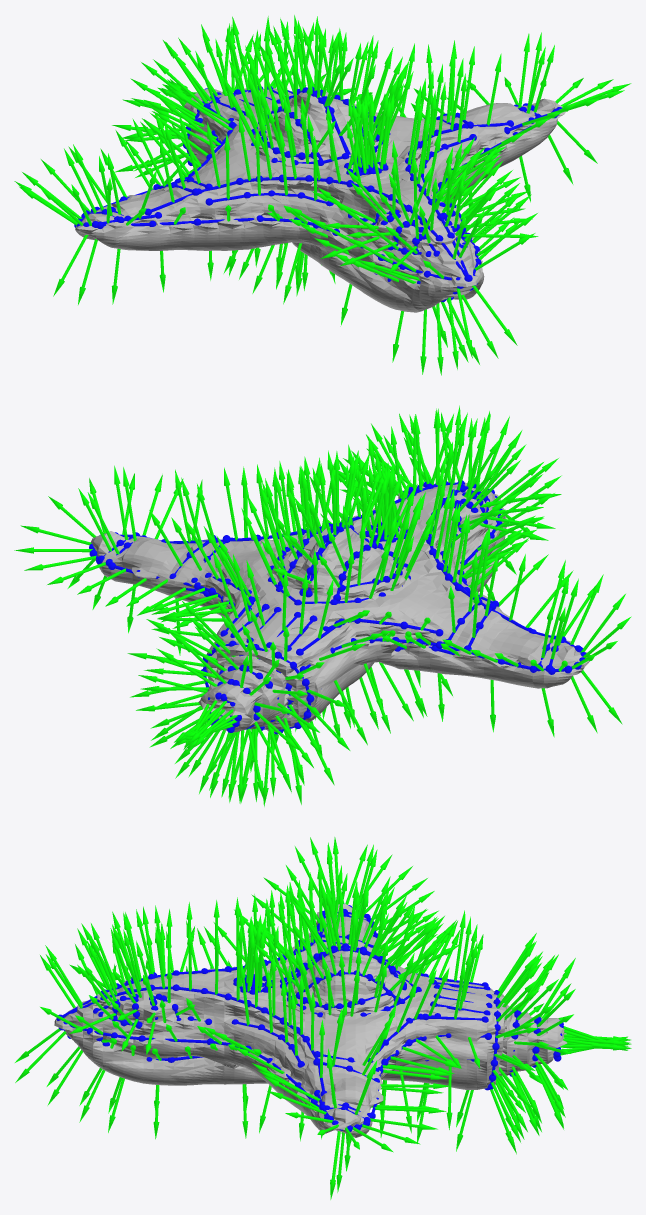
File: author1_ship.gltf
3 renders of one model, top to bottom at view 1: azimuth 30°, elevation 25°; view 2: azimuth 150°, elevation 25°; view 3: azimuth 270°, elevation 25°, orthographic. The views are drawn at different scales.
Size of the model in its own units: 0.8772 by 0.385 by 0.8377.
